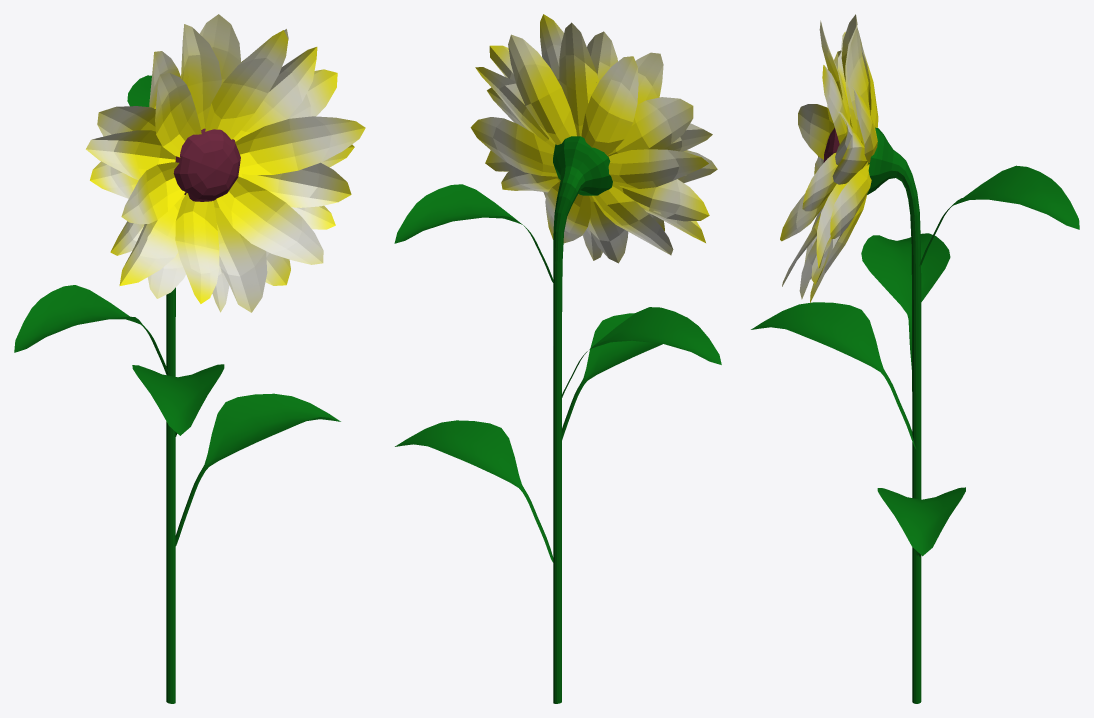
Rendered from sunflower.fbx.
3 views of the same model, side by side, from view 1: azimuth 30°, elevation 25°; view 2: azimuth 150°, elevation 25°; view 3: azimuth 270°, elevation 25° (orthographic). The views are drawn at different scales.
Parts seen in each view (by area): view 1: Flower, Leaf.001, Leaf.003, Leaf.002, Cut stem, Leaf; view 2: Flower, Leaf.001, Leaf.003, Leaf, Leaf.002, Cut stem; view 3: Flower, Leaf.002, Leaf.003, Leaf, Leaf.001, Cut stem.
Part boxes in pixels (x1,y1,x2,y2): Flower: (86,14,365,577); Leaf.001: (175,393,340,545); Leaf.003: (14,285,168,373); Leaf.002: (132,364,224,436); Cut stem: (166,576,175,703); Leaf: (127,75,151,106); Flower: (470,14,717,587); Leaf.001: (395,420,553,562); Leaf.003: (560,307,721,398); Leaf: (394,184,553,282); Leaf.002: (562,313,662,439); Cut stem: (553,586,561,703); Flower: (780,14,921,582); Leaf.002: (751,302,916,449); Leaf.003: (861,233,950,369); Leaf: (919,165,1079,265); Leaf.001: (877,487,965,556); Cut stem: (912,581,921,703).
Size of the model in its own units: 123 by 243 by 107.
